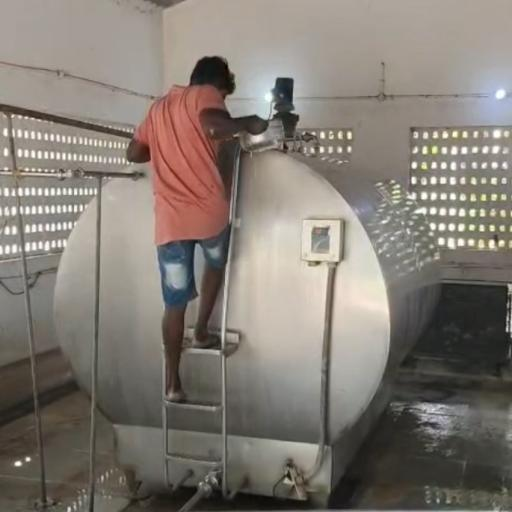silo: (51, 151, 442, 499)
vessel: (238, 118, 286, 152)
